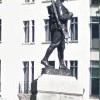Statue: (36, 2, 86, 76)
